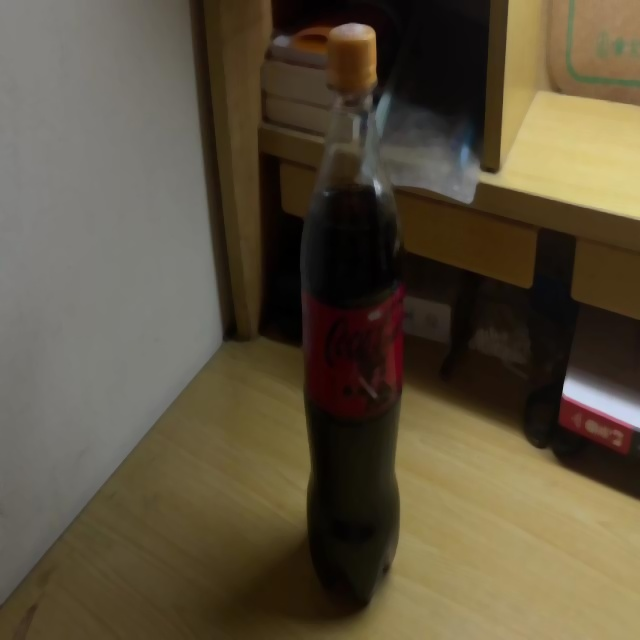Coca-Cola: (302, 21, 402, 609)
